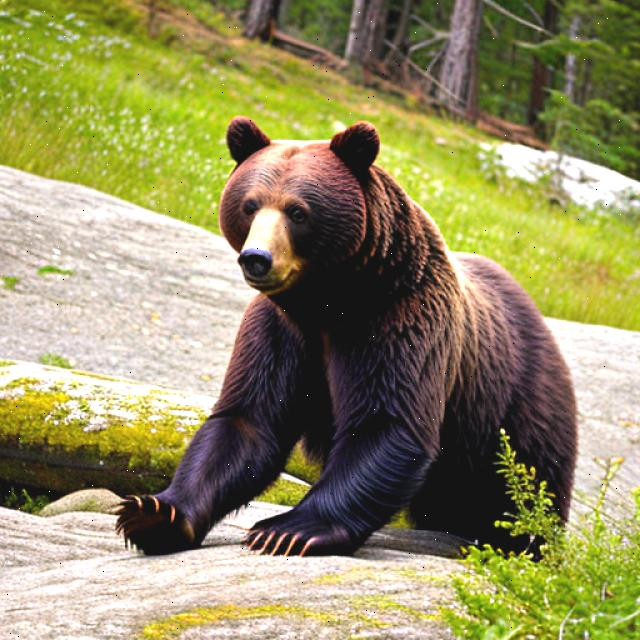bear: (188, 109, 426, 299)
